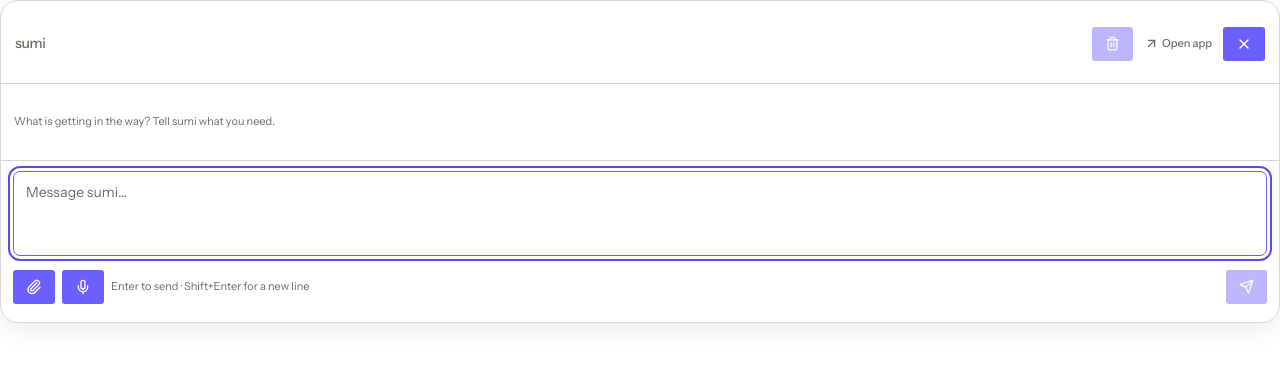
does not start a microphone or cloud fallback if local STT is unsupported
The width and height of the screenshot is (1280, 377).
Click the button named "Start voice recording" at {"x": 83, "y": 287}, box top-left (62, 270), bottom-right (104, 304)
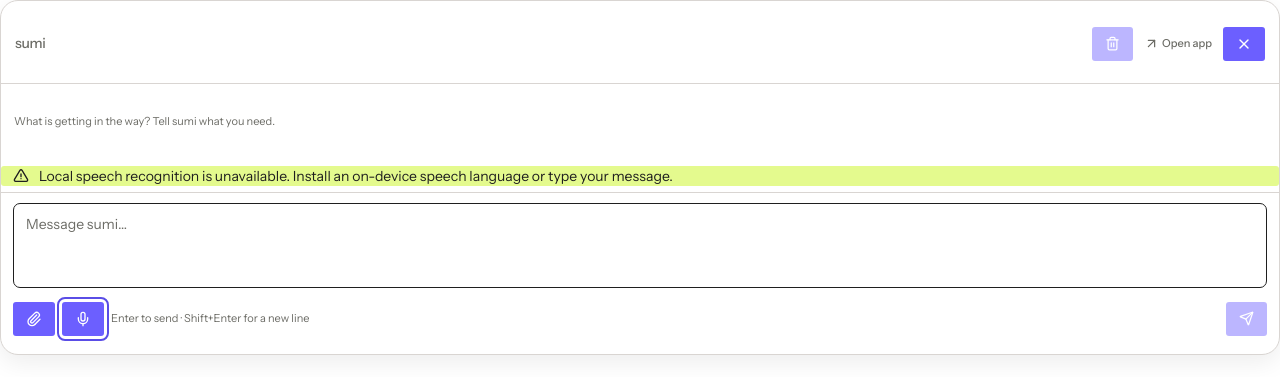
Expected: the message shows "Local speech recognition is unavailable", top-left (39, 167), bottom-right (673, 185)
